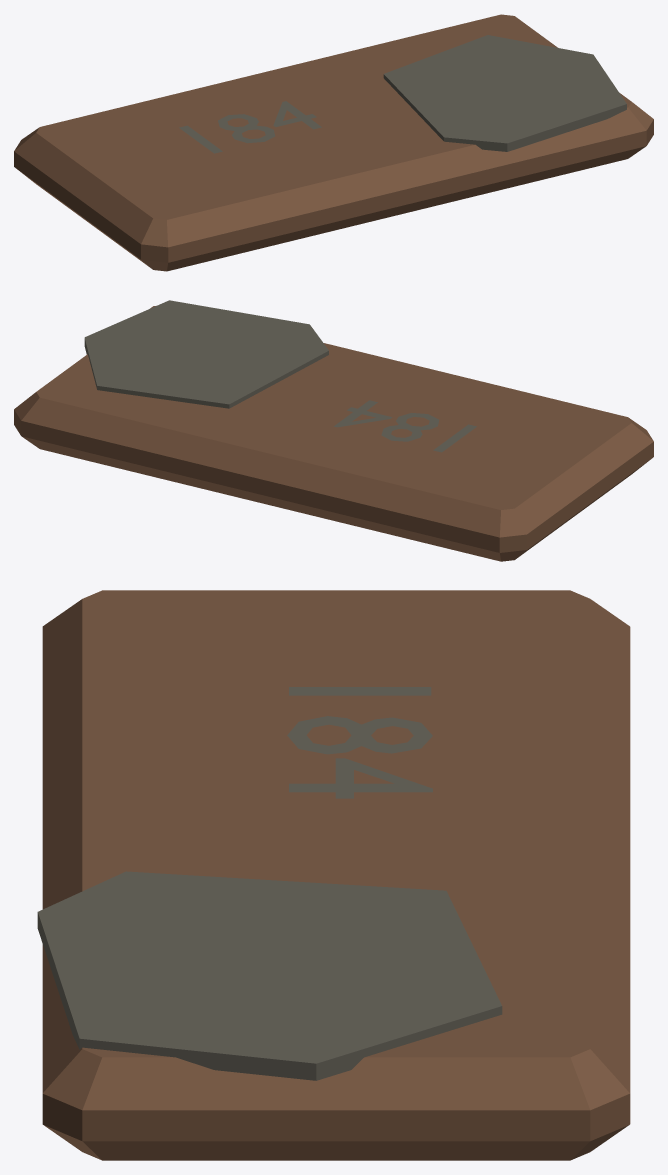
The model's file is FloorRecess_PersonalEffect.fbx.
3 renders of one model, top to bottom at view 1: azimuth 30°, elevation 25°; view 2: azimuth 150°, elevation 25°; view 3: azimuth 270°, elevation 25°, orthographic. The views are drawn at different scales.
Parts seen in each view (by area): view 1: FloorRecess_PersonalEffect; view 2: FloorRecess_PersonalEffect; view 3: FloorRecess_PersonalEffect.
Part boxes in pixels (<box>): FloorRecess_PersonalEffect: <box>14,14,653,271</box>; FloorRecess_PersonalEffect: <box>14,300,653,561</box>; FloorRecess_PersonalEffect: <box>37,590,630,1160</box>.
Bounding box in the file's own units: 0.125 × 0.013 × 0.0625.
